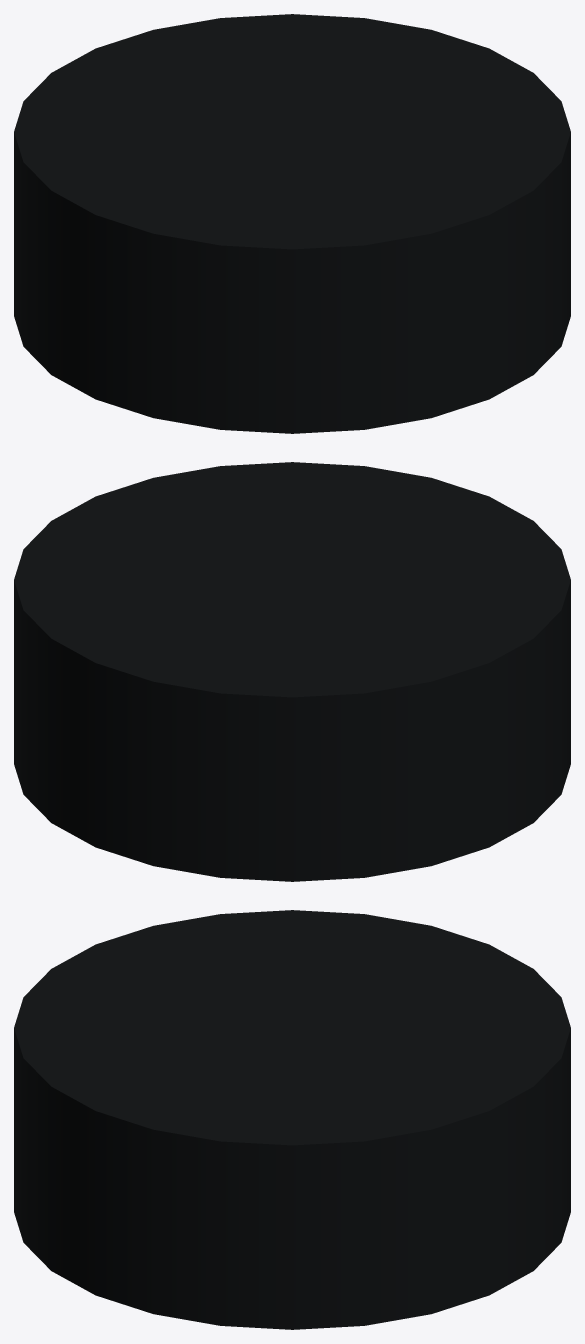
File: truck-tyre-unit-authored-atlas.glb
3 renders of one model, top to bottom at view 1: azimuth 30°, elevation 25°; view 2: azimuth 150°, elevation 25°; view 3: azimuth 270°, elevation 25°, orthographic.
Visible parts, largest first — view 1: Authored surface.002; view 2: Authored surface.002; view 3: Authored surface.002.
Part boxes in pixels (left/top/right/bottom): Authored surface.002: left=14, top=14, right=570, bottom=433; Authored surface.002: left=14, top=462, right=570, bottom=881; Authored surface.002: left=14, top=910, right=570, bottom=1329.
Size of the model in its own units: 1.04 by 0.38 by 1.04.
Materials: 1 (1 with a texture image).
